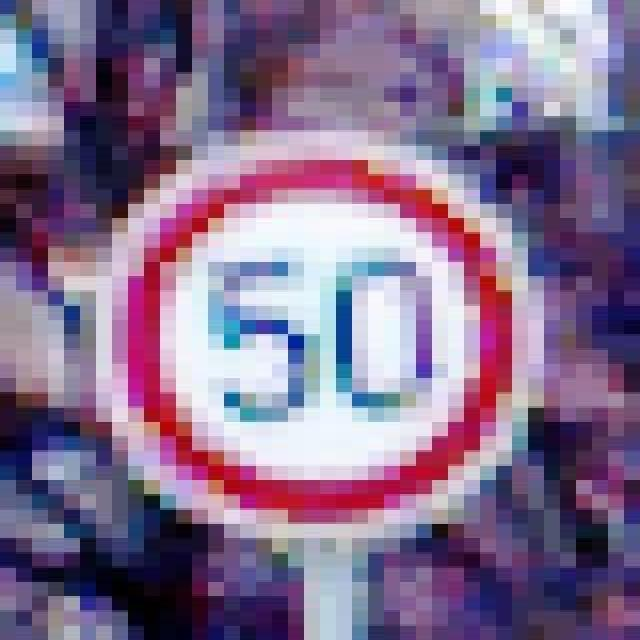50 kph: (64, 116, 512, 524)
